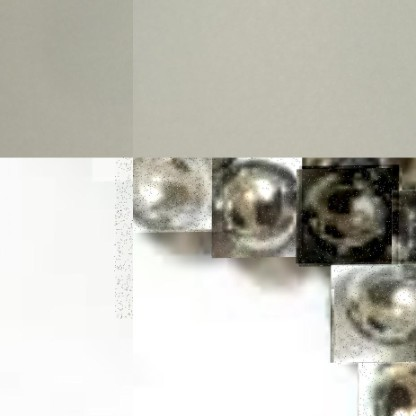ironball: (298, 165, 398, 267), (211, 157, 301, 258), (331, 262, 415, 365), (132, 157, 222, 233), (357, 362, 415, 415), (391, 190, 415, 285)
